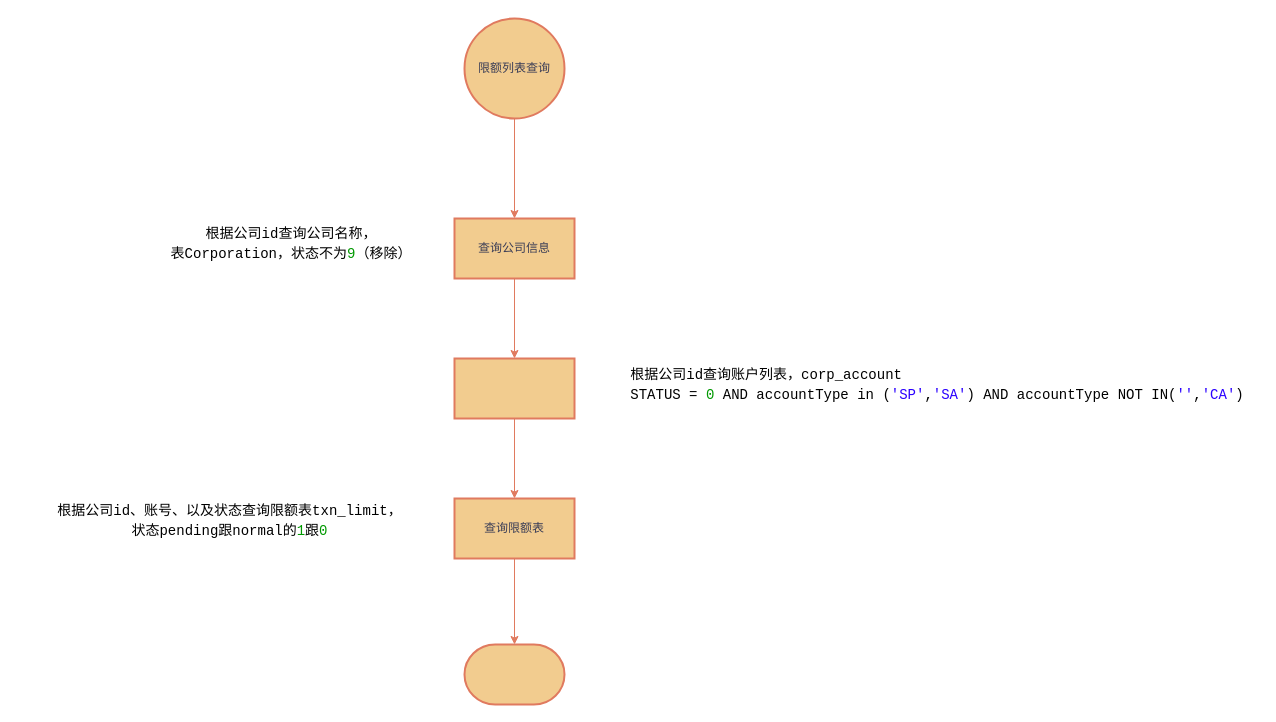
Some shapes in this 1276 by 722 pixel diagram are drawn without their labels. The shapes that lost their labels are listed below. From the top down, each one's centre as x and y in pixels, then its label:
At point 514,388: "查询账号列表".
At point 514,674: "组装数据，返回".
